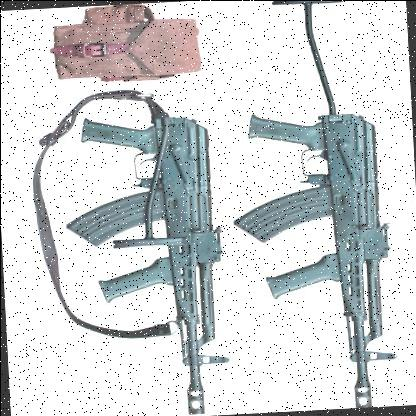rifle: (220, 25, 411, 411), (56, 86, 227, 416)
